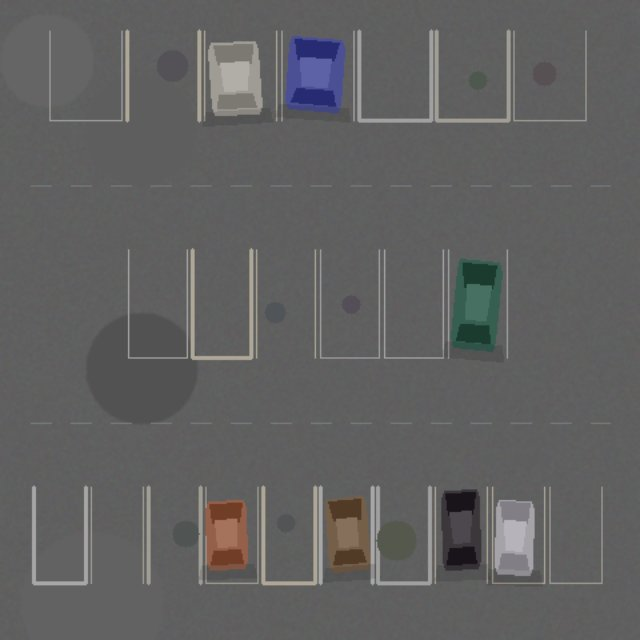space-empty: (49, 31, 121, 120), (127, 31, 199, 120), (359, 31, 431, 120), (436, 31, 508, 120), (513, 31, 585, 120), (128, 249, 187, 357), (192, 249, 251, 357), (256, 249, 315, 357), (320, 249, 379, 357), (384, 249, 443, 357), (33, 487, 85, 583), (91, 487, 143, 583), (148, 487, 200, 583), (263, 487, 315, 583), (377, 487, 429, 583), (549, 487, 601, 583)
space-occupied: (204, 31, 276, 120), (281, 31, 353, 120), (448, 249, 507, 357), (205, 487, 257, 583), (320, 487, 372, 583), (435, 487, 487, 583), (492, 487, 544, 583)
